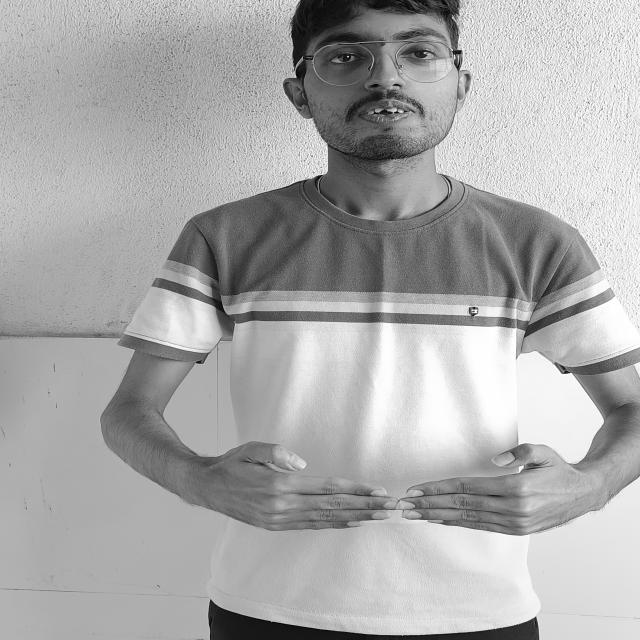Night: (182, 409, 606, 564)
